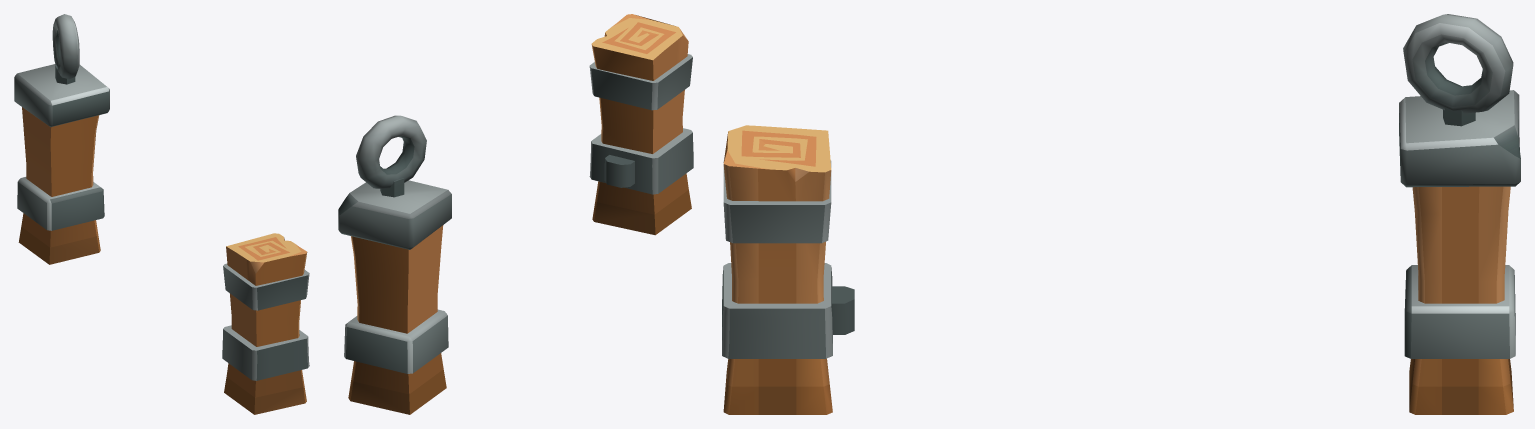
File: wooden-gate.obj
The picture shows the model from 3 angles, left to right: view 1: azimuth 30°, elevation 25°; view 2: azimuth 150°, elevation 25°; view 3: azimuth 270°, elevation 25°; orthographic projection. The views are drawn at different scales.
Parts seen in each view (by area): view 1: wooden-gate; view 2: wooden-gate; view 3: wooden-gate.
Boxes of the visible parts, x1,y1,x2,y2 form: wooden-gate: (14,14,309,414); wooden-gate: (338,14,693,414); wooden-gate: (722,14,1520,414).
Size of the model in its own units: 2.3 by 7.91 by 15.06.
1 material, 1 textured.
